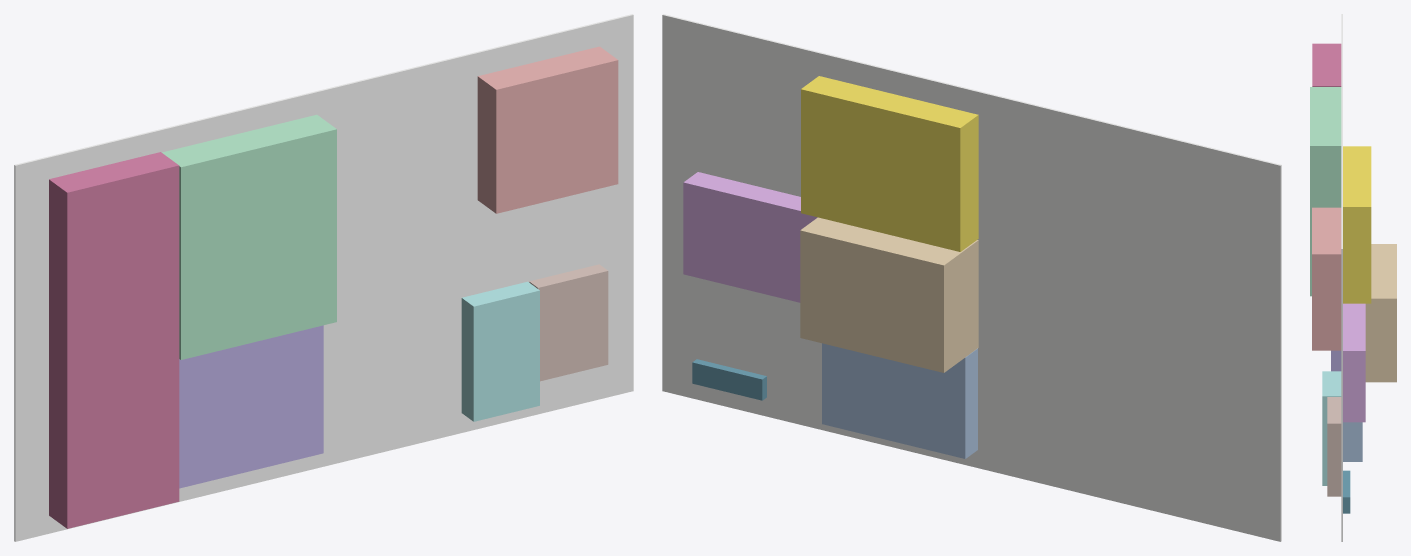
File: treemap.glb
The picture shows the model from 3 angles, left to right: view 1: azimuth 30°, elevation 25°; view 2: azimuth 150°, elevation 25°; view 3: azimuth 270°, elevation 25°; orthographic projection. The views are drawn at different scales.
Parts seen in each view (by area): view 1: Extrusion (×7); view 2: Extrusion (×6); view 3: Extrusion (×12).
Boxes of the visible parts, box(x1,y1,x2,y2) form: Extrusion (×7): box(14, 14, 633, 541); Extrusion (×6): box(662, 14, 1281, 541); Extrusion (×12): box(1310, 14, 1396, 541).
Bounding box in the file's own units: 35.66 × 20.73 × 5.58.
